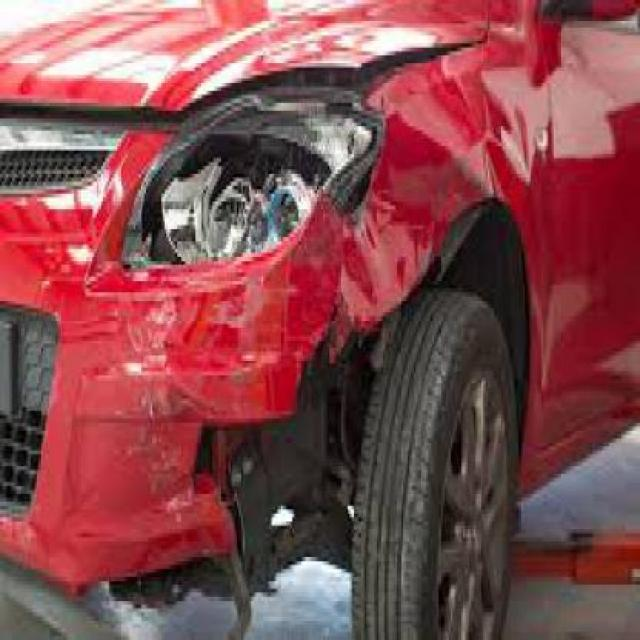damaged-front-bumper: (0, 238, 360, 574)
